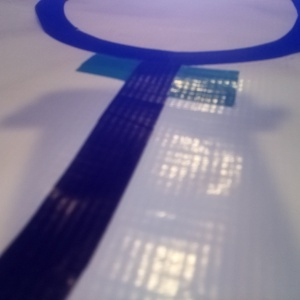bottom_right: (140, 55, 244, 99)
top_left: (78, 143, 223, 270)
